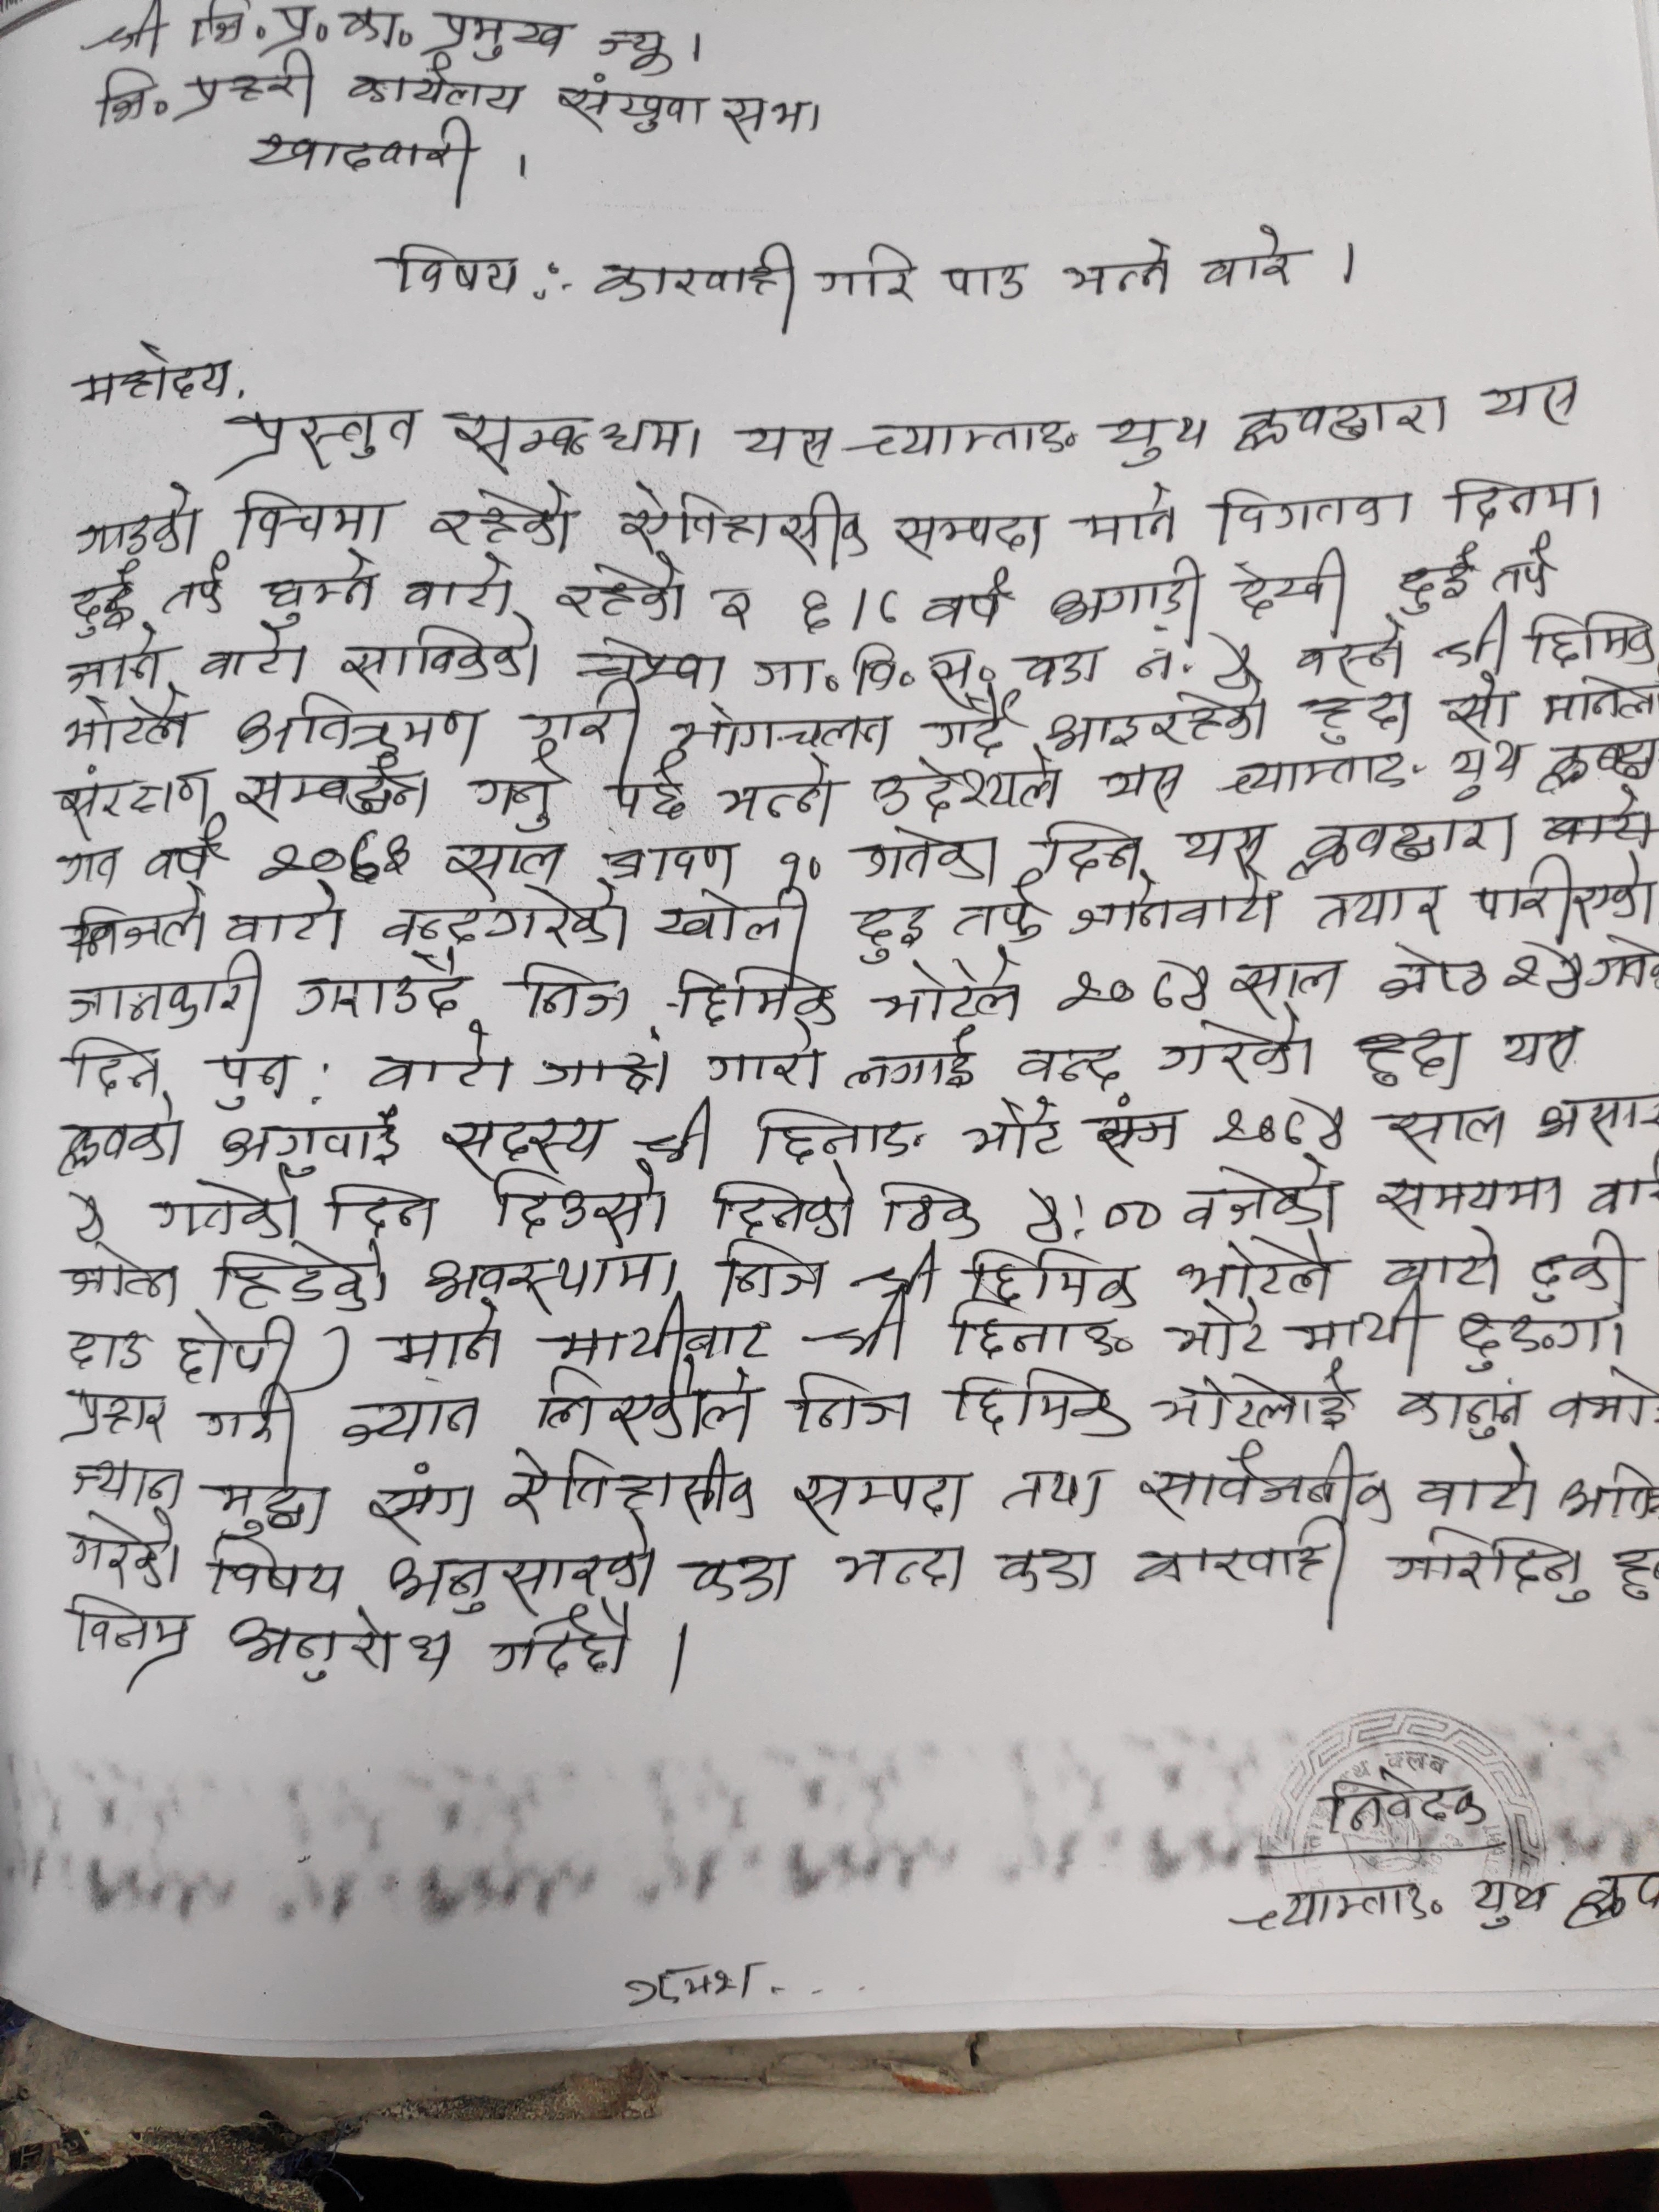text: (1138, 1439, 1396, 1527), (615, 475, 871, 564), (584, 242, 798, 343), (235, 117, 479, 202), (230, 686, 488, 765), (361, 885, 641, 956), (532, 1366, 760, 1453), (509, 1444, 765, 1521), (1121, 1521, 1354, 1602), (380, 1547, 662, 1611), (223, 1613, 460, 1688), (450, 404, 713, 469), (1385, 1529, 1596, 1609), (63, 956, 270, 1036), (1037, 688, 1279, 756), (425, 1247, 685, 1310), (479, 1165, 674, 1245), (746, 639, 1002, 700), (1467, 848, 1659, 928), (338, 620, 545, 693), (286, 949, 476, 1026), (1234, 390, 1450, 456), (943, 1367, 1129, 1444), (666, 695, 897, 756), (237, 401, 425, 475), (1152, 1362, 1359, 1430), (1209, 475, 1415, 543), (538, 1308, 795, 1362), (1060, 878, 1284, 939), (1176, 1150, 1340, 1231), (45, 752, 220, 829), (1230, 1879, 1448, 1940), (1202, 738, 1422, 798), (697, 1165, 861, 1244), (220, 1109, 408, 1177), (849, 413, 1079, 467), (1297, 813, 1527, 867), (864, 956, 1032, 1029), (1152, 1014, 1323, 1085), (746, 1094, 920, 1163), (1448, 1308, 1631, 1374), (861, 759, 1065, 819), (965, 1247, 1138, 1317), (1175, 1233, 1338, 1306), (70, 336, 237, 408), (207, 1247, 396, 1310), (232, 765, 436, 822), (662, 958, 835, 1026), (951, 1308, 1148, 1367), (64, 883, 213, 961), (340, 61, 525, 124), (145, 1177, 310, 1247), (857, 820, 1007, 897), (63, 1590, 192, 1679), (228, 482, 396, 550), (361, 1036, 528, 1104), (542, 75, 713, 141), (432, 1108, 612, 1170), (566, 629, 732, 697), (254, 822, 420, 890), (547, 550, 697, 625), (1044, 561, 1208, 629), (429, 479, 577, 554), (192, 2, 413, 51), (518, 676, 647, 759), (788, 1468, 969, 1527), (1324, 1770, 1490, 1834), (650, 883, 810, 949), (1415, 1442, 1544, 1524), (1011, 1181, 1169, 1247), (1377, 1176, 1570, 1230), (711, 752, 847, 829), (483, 1609, 636, 1677), (781, 1362, 910, 1442), (1209, 1089, 1358, 1158), (1288, 1296, 1434, 1366), (884, 503, 1054, 563), (1230, 542, 1356, 622), (66, 1510, 186, 1594), (59, 693, 213, 758), (171, 1310, 305, 1383), (71, 479, 202, 554), (1527, 603, 1659, 676), (206, 1540, 347, 1608), (188, 1381, 305, 1463), (842, 1024, 978, 1094), (47, 1113, 186, 1181), (1525, 1223, 1635, 1308), (537, 1036, 678, 1103), (512, 954, 640, 1028), (188, 51, 317, 122), (258, 552, 380, 627), (220, 883, 350, 953), (1445, 470, 1612, 524), (366, 1463, 477, 1543), (1377, 1223, 1504, 1292), (1051, 961, 1220, 1014), (338, 1393, 486, 1453), (382, 1306, 511, 1374), (1312, 878, 1450, 941), (378, 237, 519, 298), (716, 1235, 833, 1308), (878, 1172, 992, 1247), (1363, 939, 1490, 1005), (1394, 1381, 1532, 1442), (809, 237, 918, 312), (399, 554, 519, 622), (1075, 479, 1187, 552), (1286, 625, 1415, 688), (59, 1249, 185, 1313), (51, 1383, 173, 1449), (1358, 1024, 1473, 1094), (1380, 1101, 1514, 1160), (716, 80, 824, 153), (1528, 1082, 1649, 1146), (1060, 233, 1176, 300), (1199, 221, 1302, 296), (596, 841, 748, 892), (61, 1454, 186, 1515), (213, 1479, 338, 1540), (1305, 683, 1420, 749), (1007, 1036, 1131, 1097), (1037, 813, 1147, 881), (1534, 674, 1659, 733), (1154, 1299, 1279, 1359), (990, 1533, 1101, 1599), (917, 561, 1019, 632), (66, 1029, 169, 1101), (1223, 954, 1351, 1012), (688, 1543, 793, 1613), (953, 1099, 1073, 1158), (791, 573, 908, 634), (322, 1177, 436, 1240), (469, 770, 568, 841), (432, 10, 572, 61), (1110, 406, 1213, 474), (835, 1541, 965, 1594), (695, 1033, 824, 1085), (1398, 538, 1480, 620), (817, 1298, 915, 1366), (1473, 371, 1588, 428), (439, 833, 563, 885), (849, 895, 941, 965), (734, 415, 842, 474), (922, 693, 1016, 761), (1171, 812, 1279, 869), (213, 1045, 301, 1115), (945, 890, 1061, 942), (993, 1467, 1117, 1515), (1493, 941, 1589, 1003), (1100, 751, 1190, 813), (1432, 606, 1518, 672), (1493, 1024, 1601, 1076), (153, 554, 232, 625), (78, 2, 173, 61), (193, 636, 312, 683), (601, 761, 690, 824), (89, 63, 173, 129), (58, 641, 162, 693), (1486, 531, 1567, 599), (856, 1238, 945, 1299), (1466, 1876, 1558, 1933), (589, 19, 676, 78), (71, 559, 134, 641), (1544, 1381, 1652, 1428), (1448, 674, 1516, 747), (1006, 646, 1108, 693), (141, 822, 225, 880), (939, 254, 1030, 307), (1446, 742, 1527, 799), (64, 1327, 148, 1374), (49, 843, 127, 892), (1129, 636, 1180, 695), (709, 583, 760, 634), (775, 843, 824, 888)
